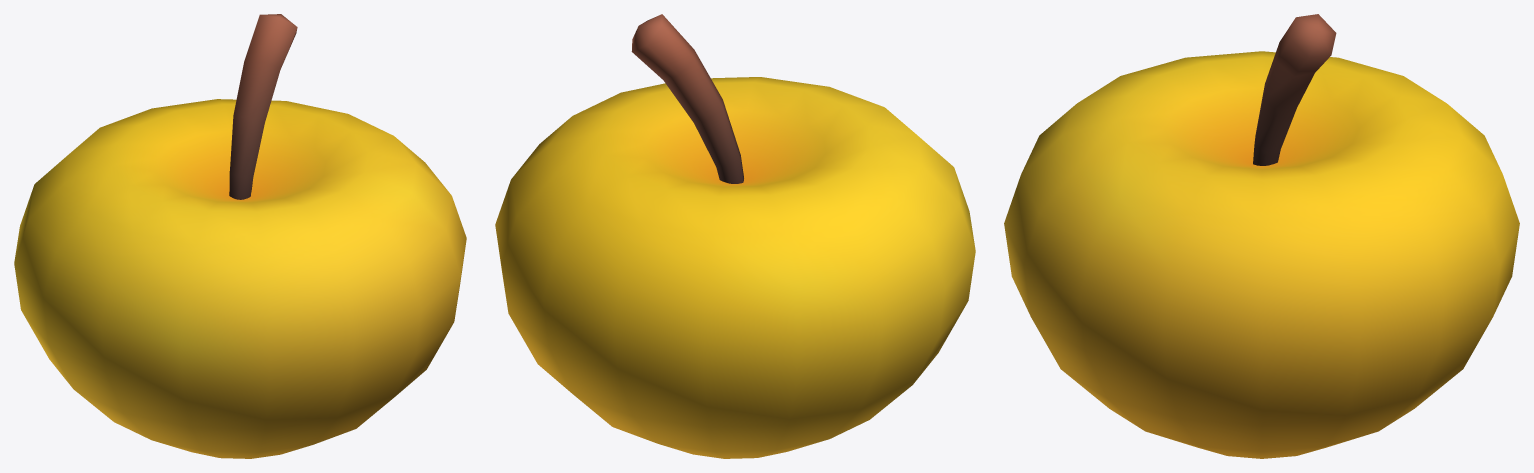
The model's file is apple_003.fbx.
3 views of the same model, side by side, from view 1: azimuth 30°, elevation 25°; view 2: azimuth 150°, elevation 25°; view 3: azimuth 270°, elevation 25° (orthographic). The views are drawn at different scales.
Visible parts, largest first — view 1: apple_003; view 2: apple_003; view 3: apple_003.
Boxes of the visible parts, <box> form: apple_003: <box>14,14,466,458</box>; apple_003: <box>495,14,975,458</box>; apple_003: <box>1004,14,1519,458</box>.
Size of the model in its own units: 9 by 9 by 8.48.
